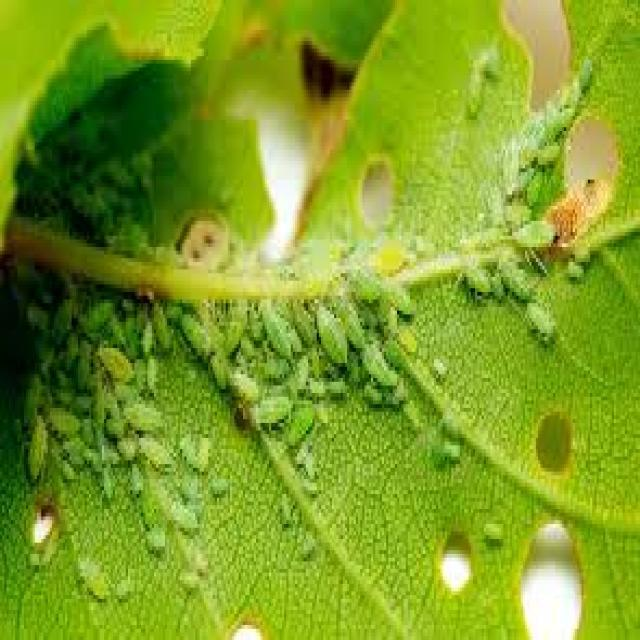aphid: (503, 210, 562, 274), (308, 292, 354, 371), (11, 359, 50, 449), (67, 539, 113, 614), (89, 330, 139, 392), (172, 303, 220, 367), (252, 292, 290, 367), (17, 404, 50, 490), (518, 288, 562, 348), (65, 168, 109, 228), (130, 420, 176, 476), (76, 284, 120, 340), (247, 385, 293, 438), (364, 225, 410, 278), (41, 288, 78, 352), (145, 288, 178, 356), (354, 337, 399, 385), (41, 393, 85, 442), (452, 250, 494, 300), (379, 269, 418, 322), (146, 220, 184, 274), (268, 476, 300, 536), (288, 520, 324, 569), (171, 554, 206, 602), (496, 128, 520, 198), (336, 299, 367, 352), (164, 494, 200, 539), (460, 56, 486, 116), (136, 516, 172, 558), (202, 344, 230, 397), (478, 509, 506, 554), (204, 464, 232, 505), (575, 48, 597, 98), (108, 565, 134, 603), (534, 134, 560, 172), (93, 461, 117, 502), (560, 250, 586, 284), (440, 430, 462, 468), (427, 344, 449, 382), (297, 468, 321, 501), (570, 240, 592, 266)
